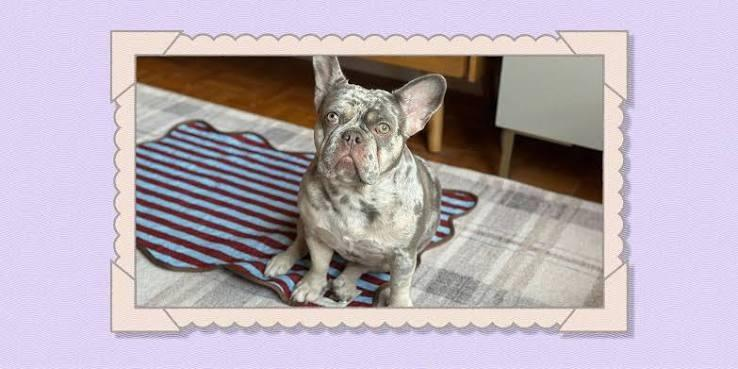adult_dog: (261, 54, 449, 309)
